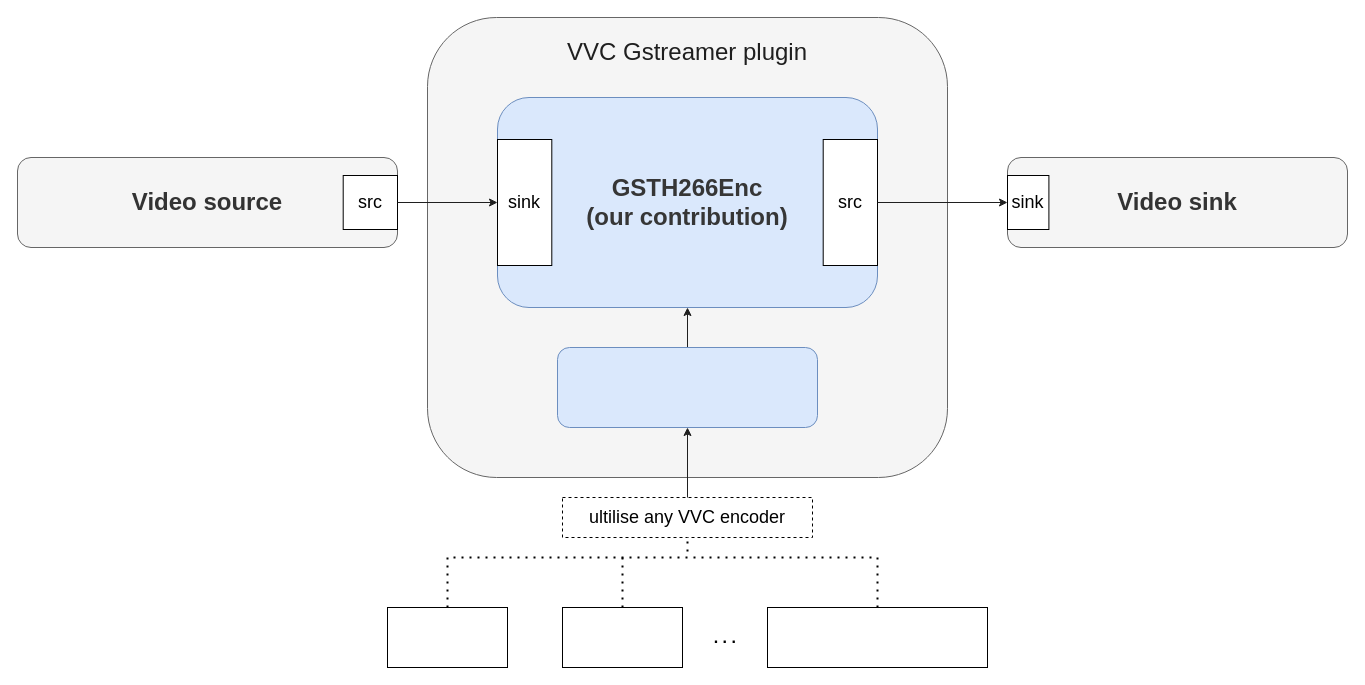
The diagram is 1365 pixels wide and 685 high, and some of its shapes have lost their labels. The centre of each missing label's shape, as x and y in pixels:
Any other VVC encoder: (877,637)
uvg266: (622,637)
VVC Encoder Gstreamer API (our contribution): (687,387)
VVenc: (447,637)
